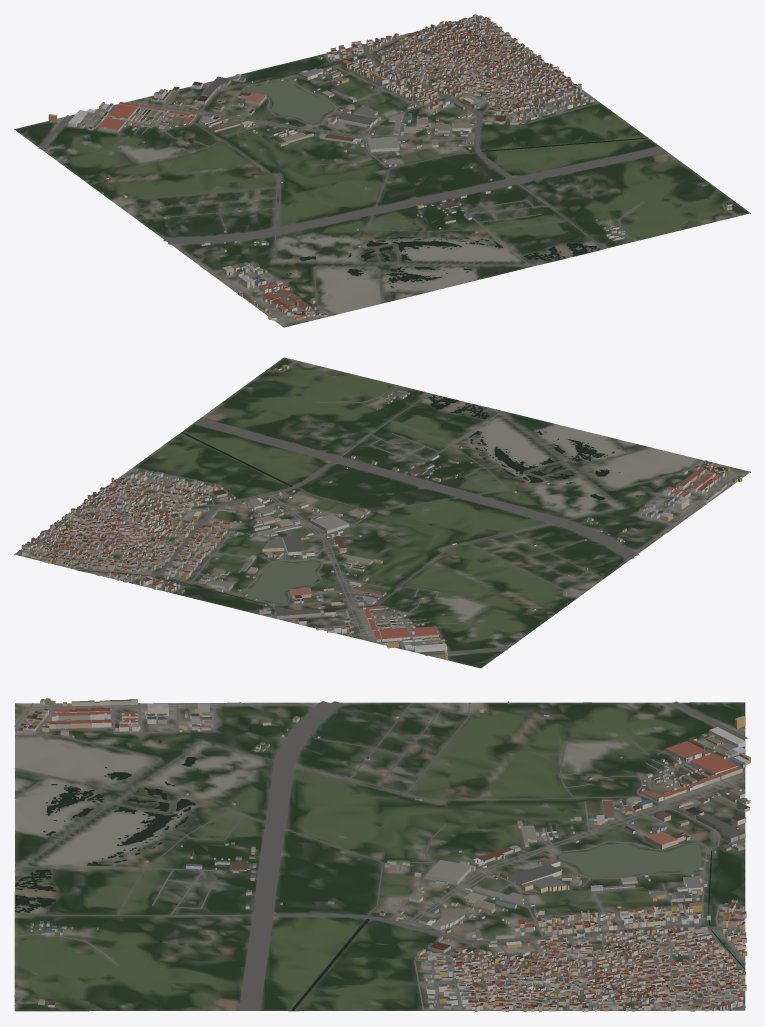
3 renders of one model, top to bottom at view 1: azimuth 30°, elevation 25°; view 2: azimuth 150°, elevation 25°; view 3: azimuth 270°, elevation 25°, orthographic. The views are drawn at different scales.
Visible parts, largest first — view 1: ground, buildings, roads, water; view 2: ground, buildings, roads, water; view 3: ground, buildings, roads, water.
Boxes of the visible parts, <box> form: ground: <box>14,15,750,327</box>; buildings: <box>48,14,732,320</box>; roads: <box>38,18,742,322</box>; water: <box>246,31,648,287</box>; ground: <box>14,357,750,668</box>; buildings: <box>21,364,742,659</box>; roads: <box>18,359,743,658</box>; water: <box>77,394,640,605</box>; ground: <box>14,702,745,1011</box>; buildings: <box>17,698,750,1012</box>; roads: <box>14,701,747,1010</box>; water: <box>15,740,745,1010</box>.
Size of the model in its own units: 1416 by 24.11 by 1414.
